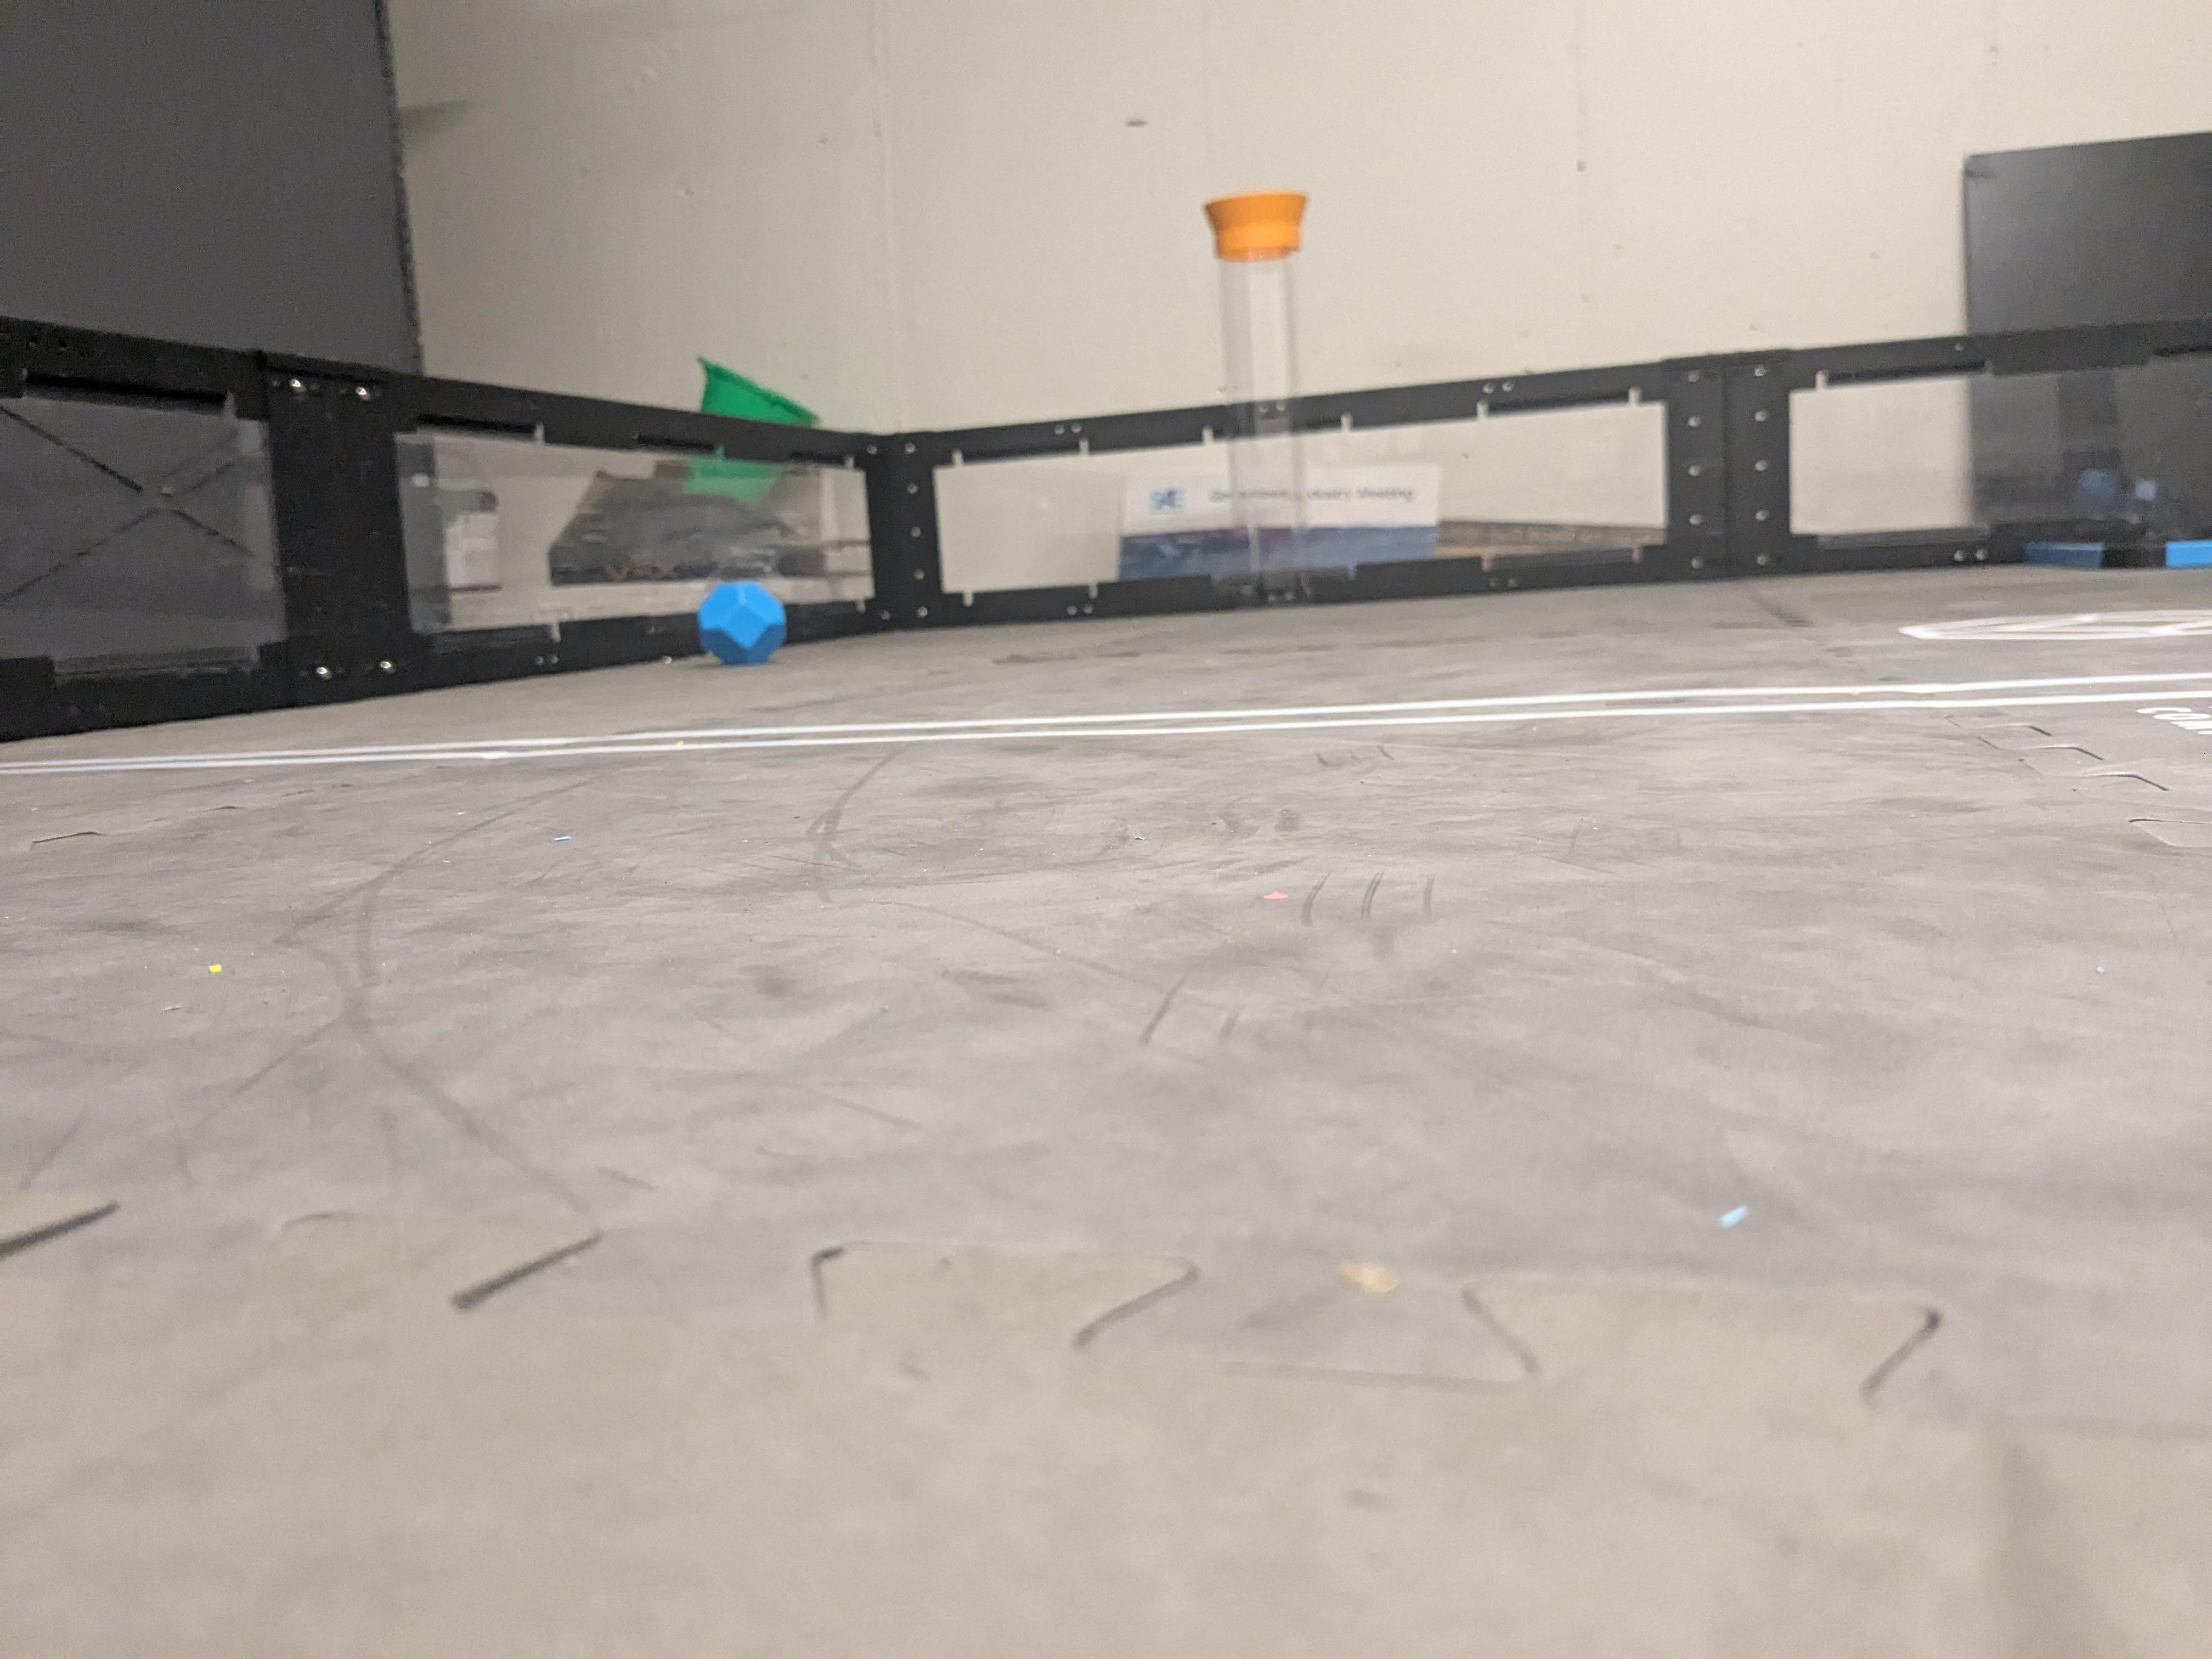Vex-Pieces-BLUE: (698, 582, 784, 662)
